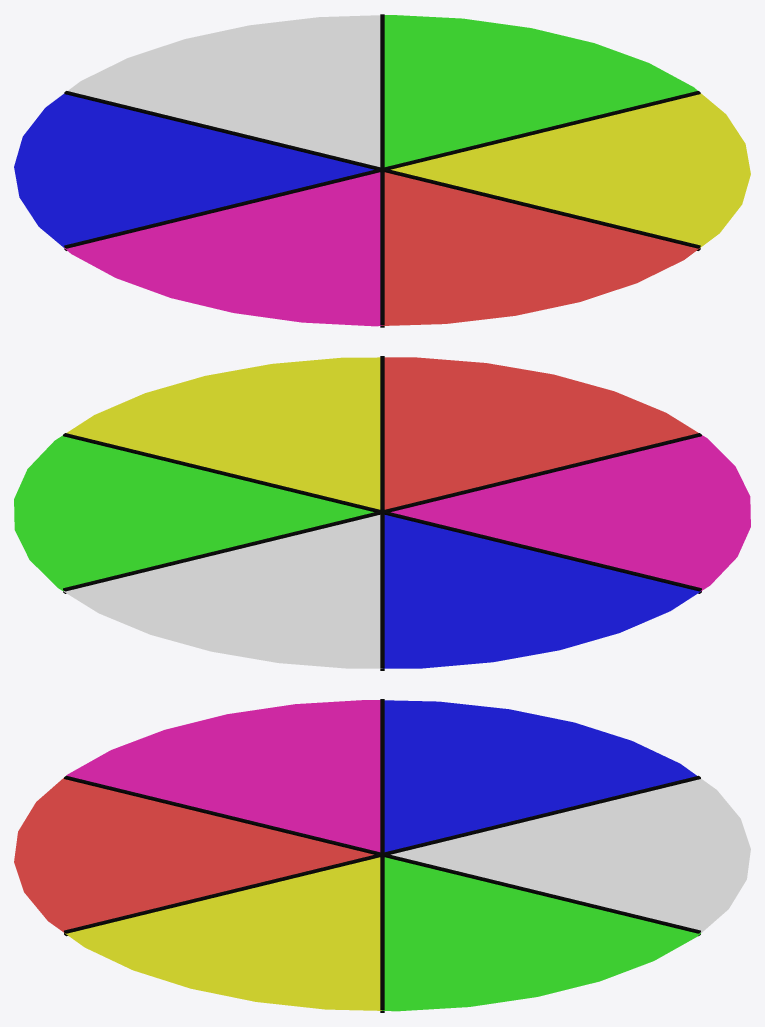
The model's file is WorldFloor.fbx.
The picture shows the model from 3 angles, top to bottom: view 1: azimuth 30°, elevation 25°; view 2: azimuth 150°, elevation 25°; view 3: azimuth 270°, elevation 25°; orthographic projection.
Visible parts, largest first — view 1: Big Floor, Big Floor walls; view 2: Big Floor, Big Floor walls; view 3: Big Floor, Big Floor walls.
Boxes of the visible parts, <box> form: Big Floor: <box>14,15,750,326</box>; Big Floor walls: <box>64,14,700,327</box>; Big Floor: <box>14,357,750,668</box>; Big Floor walls: <box>63,356,701,670</box>; Big Floor: <box>14,700,750,1011</box>; Big Floor walls: <box>64,699,700,1012</box>.
Bounding box in the file's own units: 98183 × 600 × 98183.
